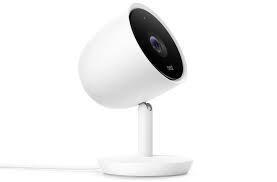tutu: (75, 0, 197, 110)
